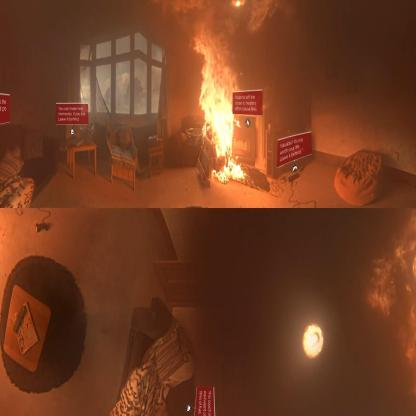fire: (194, 30, 245, 185)
